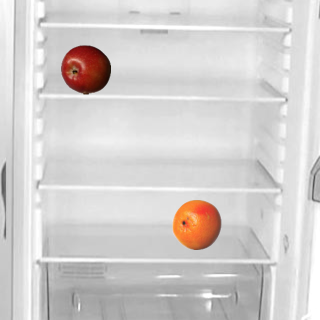Apple Braeburn: (60, 44, 110, 94)
Grapefruit Pink: (171, 199, 221, 249)
